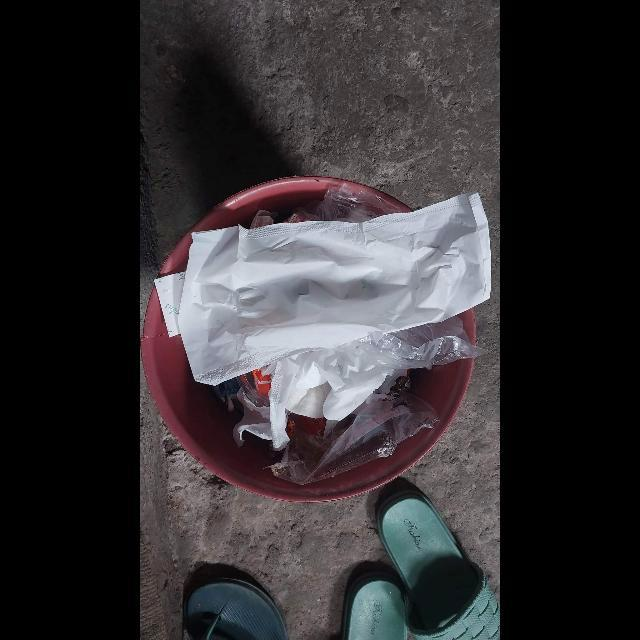paper: (178, 193, 492, 387), (232, 349, 393, 452)
